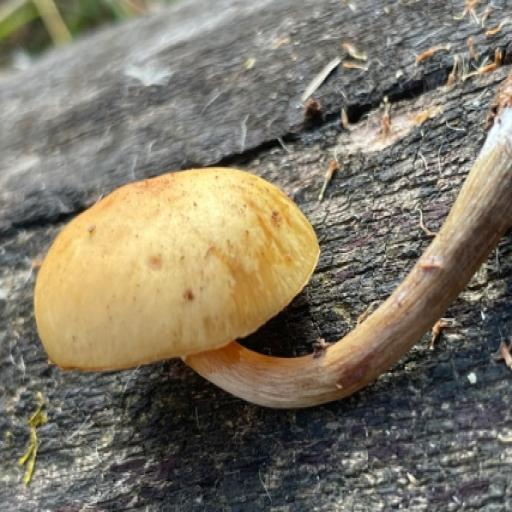mushroom: (30, 154, 512, 422)
